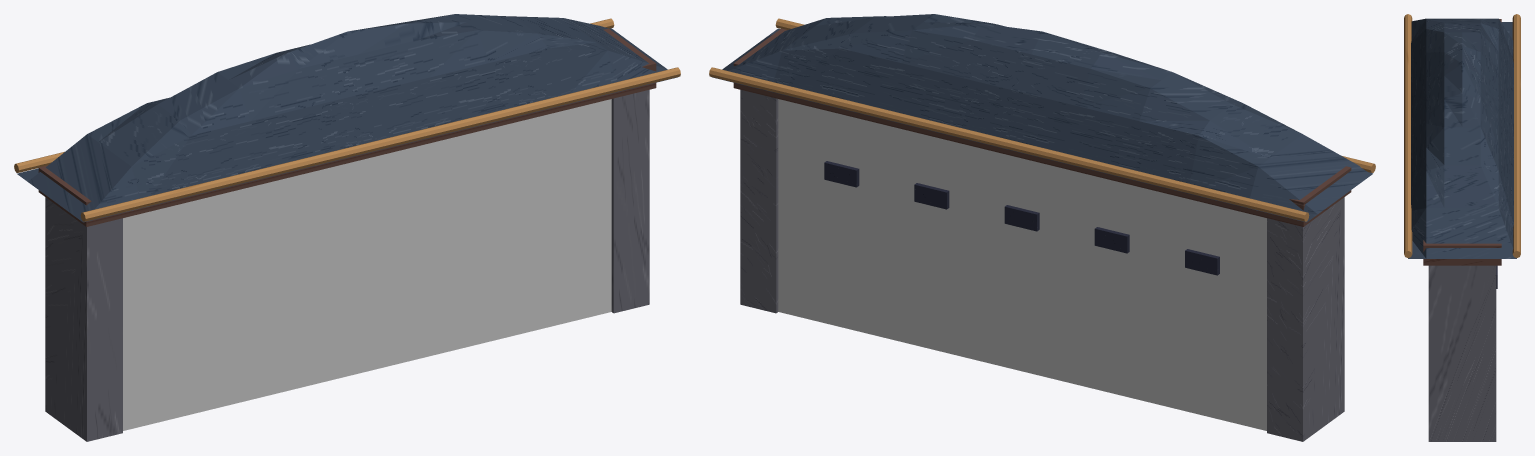
Rendered from shogun_city_wall_module.obj.
3 renders of one model, left to right at view 1: azimuth 30°, elevation 25°; view 2: azimuth 150°, elevation 25°; view 3: azimuth 270°, elevation 25°, orthographic. The views are drawn at different scales.
Visible parts, largest first — view 1: geometry_0, geometry_2, geometry_5, geometry_6, geometry_4, geometry_1; view 2: geometry_0, geometry_2, geometry_5, geometry_6, geometry_3, geometry_1, geometry_8, geometry_11, geometry_9, geometry_10, geometry_7; view 3: geometry_2, geometry_6, geometry_3, geometry_4, geometry_1.
Boxes of the visible parts, x1=… form: geometry_0: x1=123, y1=99, x2=611, y2=430; geometry_2: x1=17, y1=14, x2=677, y2=222; geometry_5: x1=45, y1=197, x2=122, y2=441; geometry_6: x1=611, y1=89, x2=649, y2=313; geometry_4: x1=80, y1=67, x2=680, y2=221; geometry_1: x1=38, y1=28, x2=656, y2=226; geometry_0: x1=778, y1=99, x2=1266, y2=430; geometry_2: x1=712, y1=14, x2=1372, y2=222; geometry_5: x1=1267, y1=197, x2=1344, y2=441; geometry_6: x1=740, y1=89, x2=778, y2=313; geometry_3: x1=709, y1=67, x2=1309, y2=221; geometry_1: x1=733, y1=28, x2=1351, y2=226; geometry_8: x1=1094, y1=227, x2=1129, y2=253; geometry_11: x1=824, y1=161, x2=859, y2=187; geometry_9: x1=1004, y1=205, x2=1039, y2=231; geometry_10: x1=914, y1=183, x2=949, y2=209; geometry_7: x1=1185, y1=249, x2=1219, y2=275; geometry_2: x1=1408, y1=18, x2=1516, y2=258; geometry_6: x1=1428, y1=265, x2=1496, y2=441; geometry_3: x1=1512, y1=14, x2=1520, y2=257; geometry_4: x1=1404, y1=14, x2=1412, y2=257; geometry_1: x1=1423, y1=19, x2=1501, y2=265.
Bounding box in the file's own units: 16.5 × 8.65 × 3.44.
